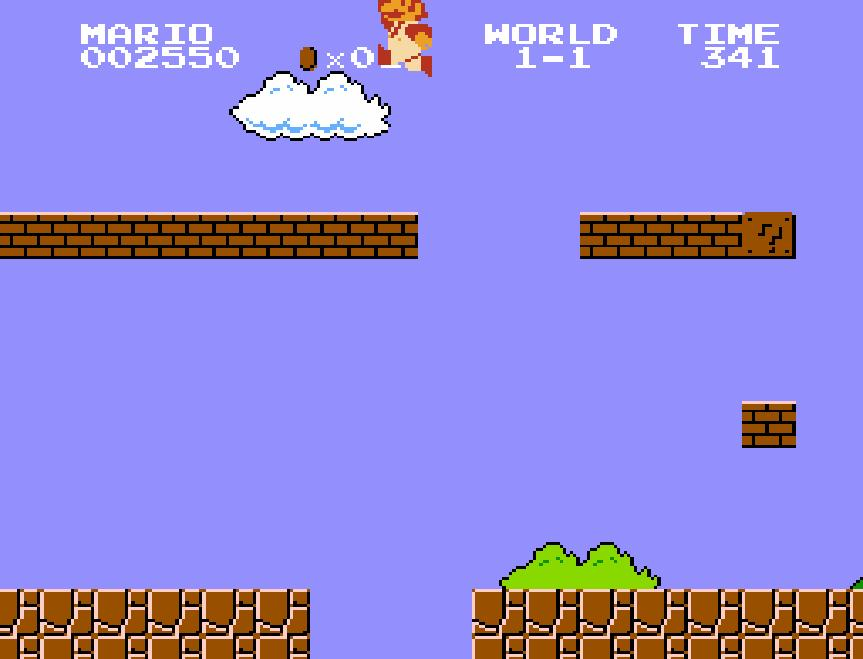fire_mario: (376, 0, 434, 77)
